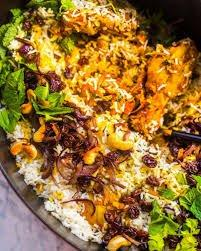Biryani: (10, 5, 201, 251)
